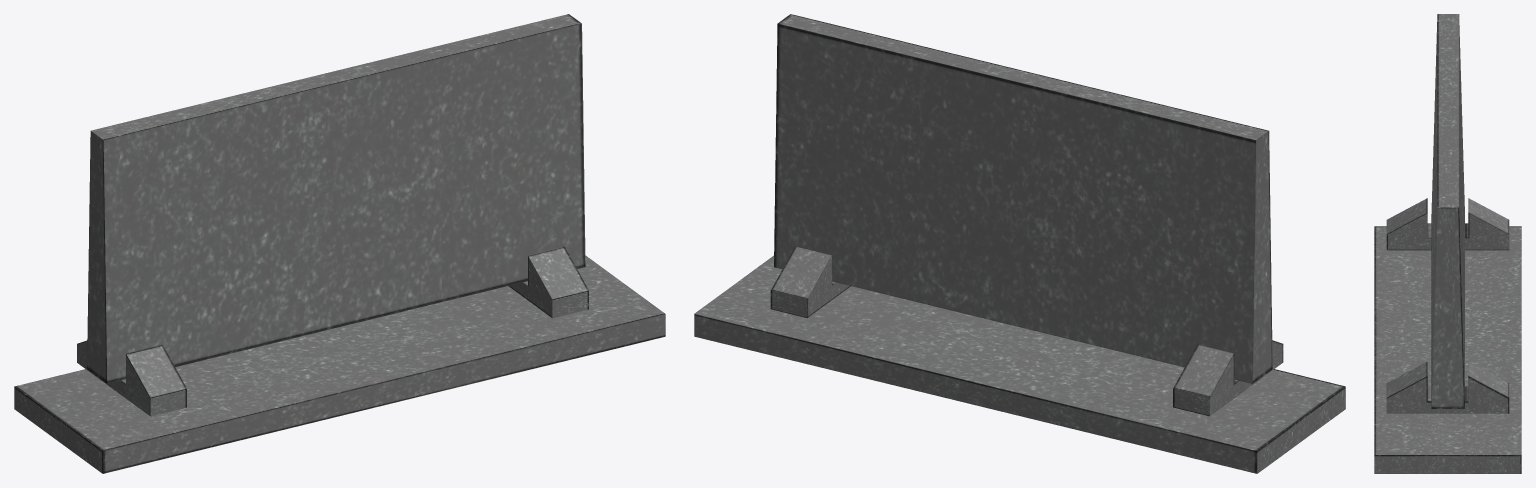
The model's file is grave_boshi.fbx.
The picture shows the model from 3 angles, left to right: view 1: azimuth 30°, elevation 25°; view 2: azimuth 150°, elevation 25°; view 3: azimuth 270°, elevation 25°; orthographic projection. The views are drawn at different scales.
Visible parts, largest first — view 1: Cube.022, Cube.019, Cube.001, Cube.020; view 2: Cube.022, Cube.019, Cube.001, Cube.020; view 3: Cube.019, Cube.022, Cube.020, Cube.001.
Part boxes in pixels (x1=…): Cube.022: x1=87, y1=14, x2=585, y2=383; Cube.019: x1=14, y1=255, x2=665, y2=473; Cube.001: x1=77, y1=340, x2=186, y2=416; Cube.020: x1=508, y1=246, x2=588, y2=318; Cube.022: x1=774, y1=14, x2=1272, y2=383; Cube.019: x1=694, y1=255, x2=1345, y2=473; Cube.001: x1=1173, y1=340, x2=1283, y2=416; Cube.020: x1=770, y1=246, x2=850, y2=318; Cube.019: x1=1374, y1=226, x2=1521, y2=473; Cube.022: x1=1431, y1=14, x2=1464, y2=408; Cube.020: x1=1386, y1=361, x2=1509, y2=413; Cube.001: x1=1386, y1=198, x2=1509, y2=250.
Bounding box in the file's own units: 4.89 × 2.46 × 1.33.
Materials: 1 (1 with a texture image).
